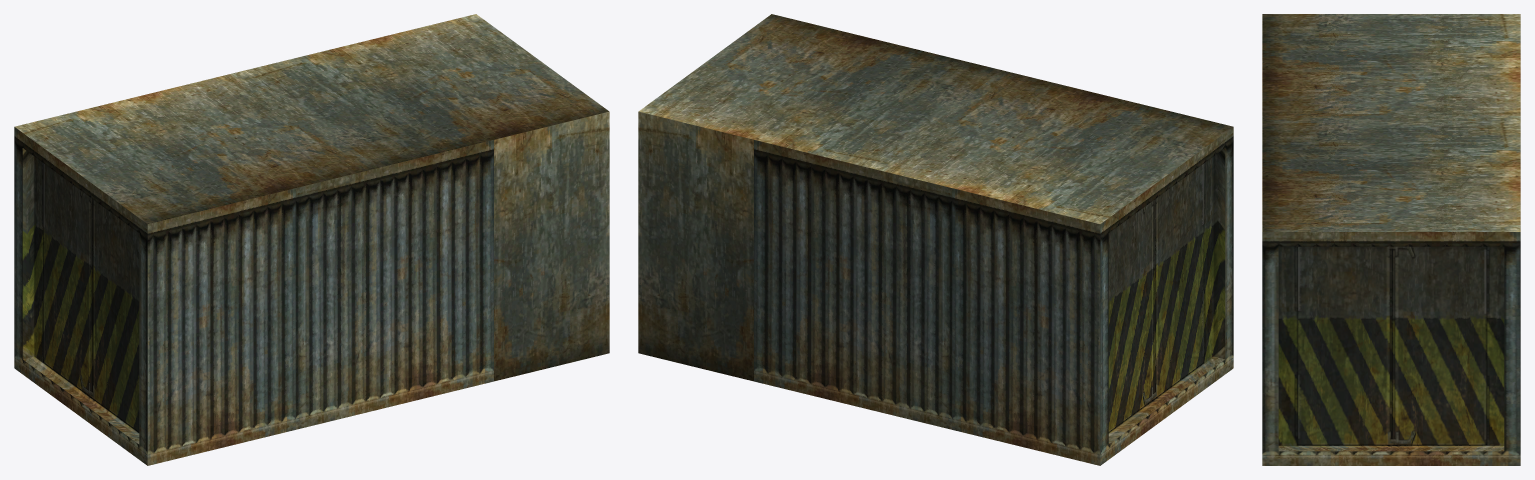
Rendered from Crate_Big01.glb.
3 renders of one model, left to right at view 1: azimuth 30°, elevation 25°; view 2: azimuth 150°, elevation 25°; view 3: azimuth 270°, elevation 25°, orthographic. The views are drawn at different scales.
Parts seen in each view (by area): view 1: CRATE_BIG01; view 2: CRATE_BIG01; view 3: CRATE_BIG01.
Part boxes in pixels (x1,y1,x2,y2): CRATE_BIG01: (14, 14, 609, 465); CRATE_BIG01: (638, 14, 1233, 465); CRATE_BIG01: (1262, 14, 1520, 465).
Size of the model in its own units: 8 by 4 by 4.
3 materials, 3 textured.
